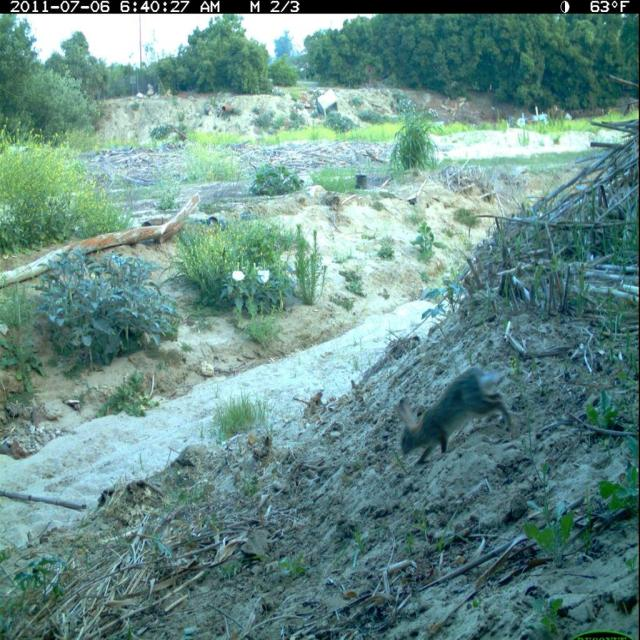rabbit: (391, 361, 521, 471)
